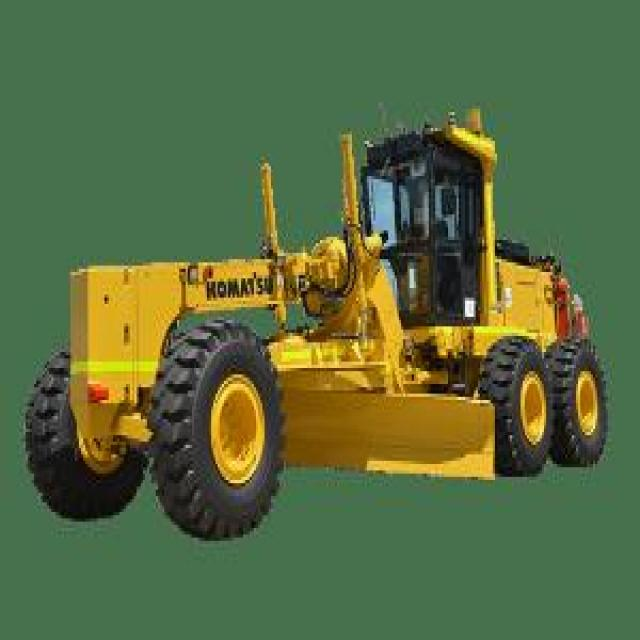Grader: (28, 96, 621, 534)
